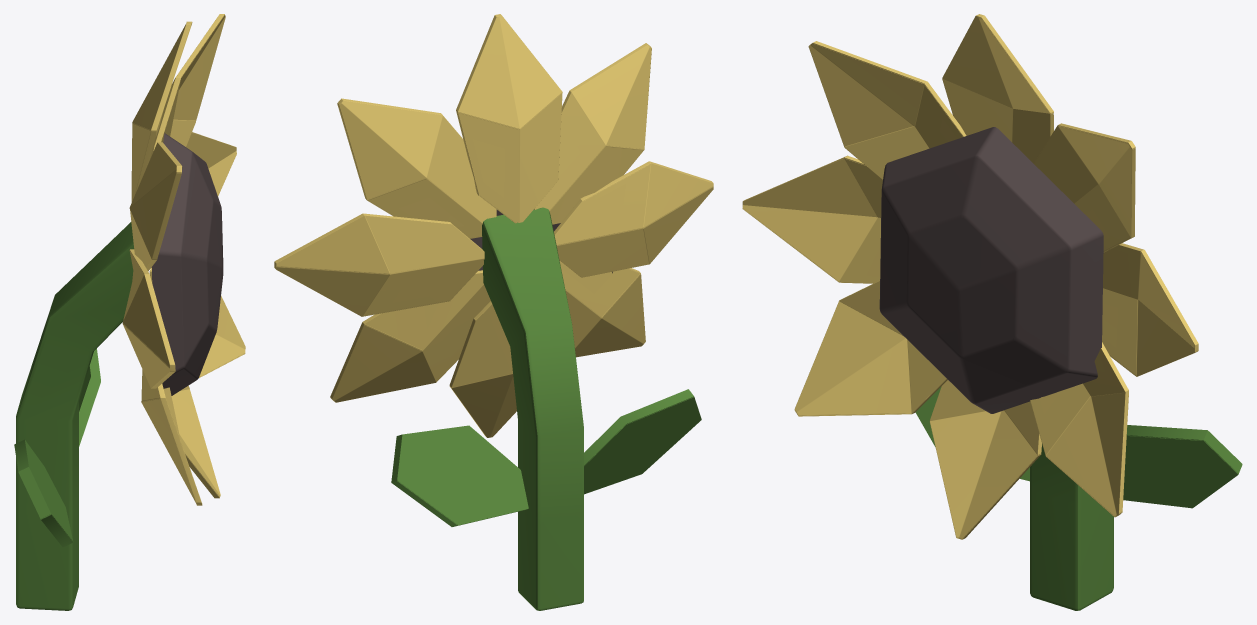
The model's file is SunFlower.fbx.
3 renders of one model, left to right at view 1: azimuth 30°, elevation 25°; view 2: azimuth 150°, elevation 25°; view 3: azimuth 270°, elevation 25°, orthographic. The views are drawn at different scales.
Parts seen in each view (by area): view 1: Sunflower_7; view 2: Sunflower_7; view 3: Sunflower_7.
Boxes of the visible parts, left/top/right/bottom form: Sunflower_7: left=14, top=14, right=245, bottom=610; Sunflower_7: left=274, top=14, right=713, bottom=610; Sunflower_7: left=742, top=14, right=1242, bottom=610.
Bounding box in the file's own units: 38.12 × 62.67 × 44.89.
